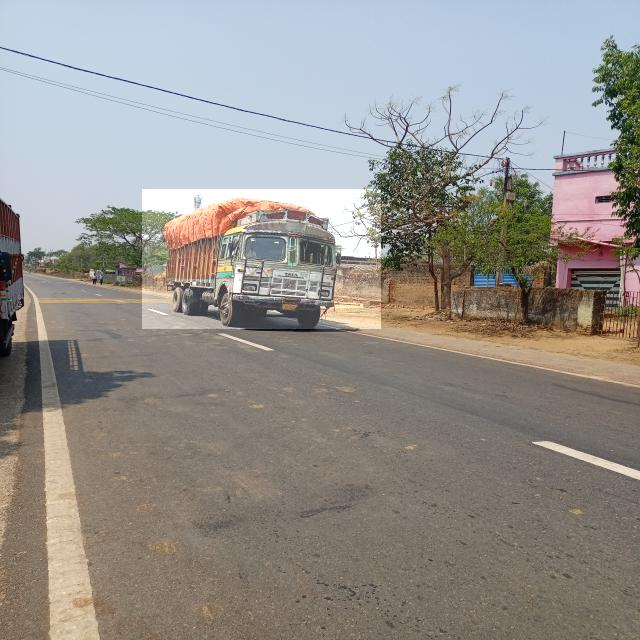Truck: (142, 190, 381, 330)
